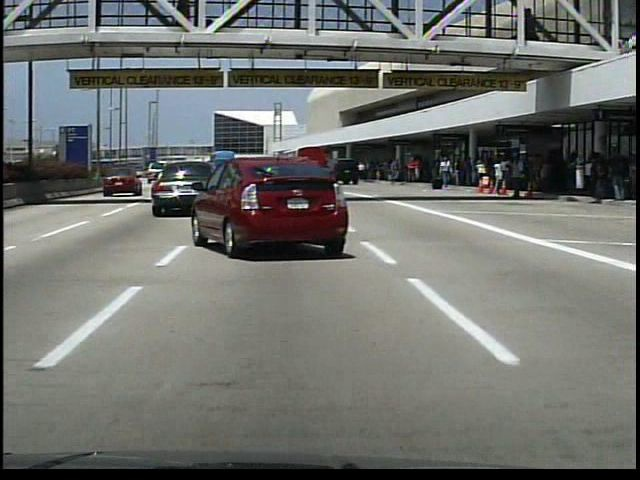person: (506, 152, 530, 204), (438, 157, 455, 193), (176, 1, 193, 30), (408, 158, 421, 185), (357, 163, 367, 182)
